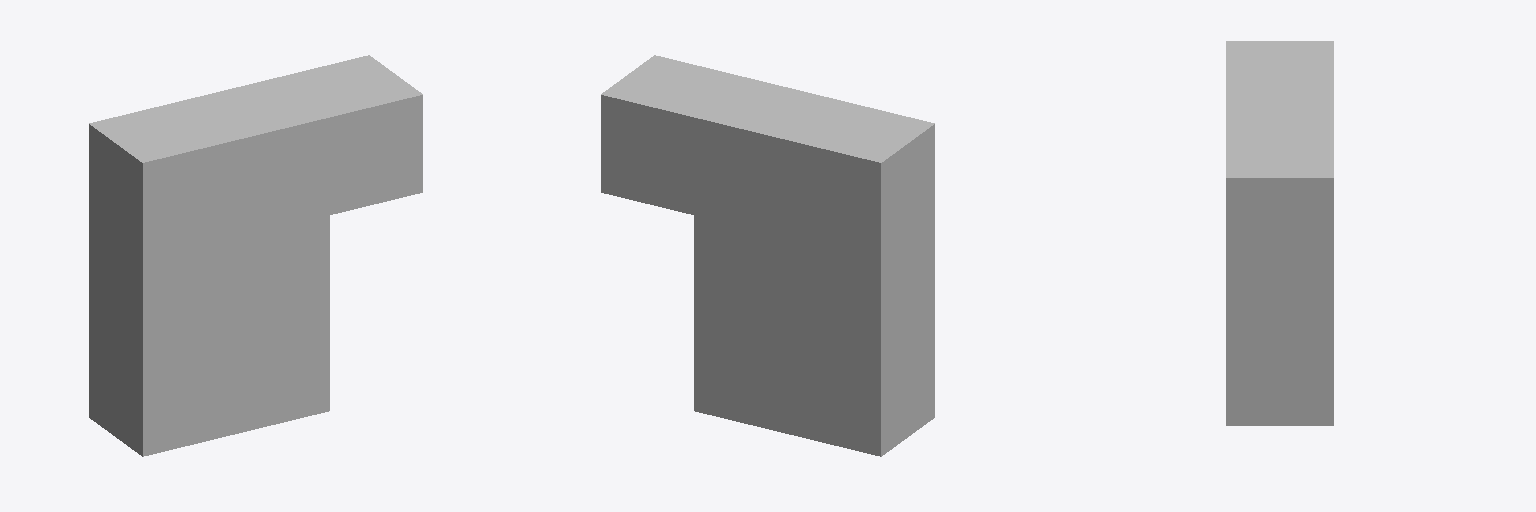
The model's file is Pez Pequeñisimo-0.obj.
3 views of the same model, side by side, from view 1: azimuth 30°, elevation 25°; view 2: azimuth 150°, elevation 25°; view 3: azimuth 270°, elevation 25° (orthographic).
Visible parts, largest first — view 1: object 1; view 2: object 1; view 3: object 1.
Part boxes in pixels (x1,y1,x2,y2): object 1: (89,55,422,456); object 1: (601,55,934,456); object 1: (1226,41,1333,425).
Size of the model in its own units: 0.3 by 0.3 by 0.1.